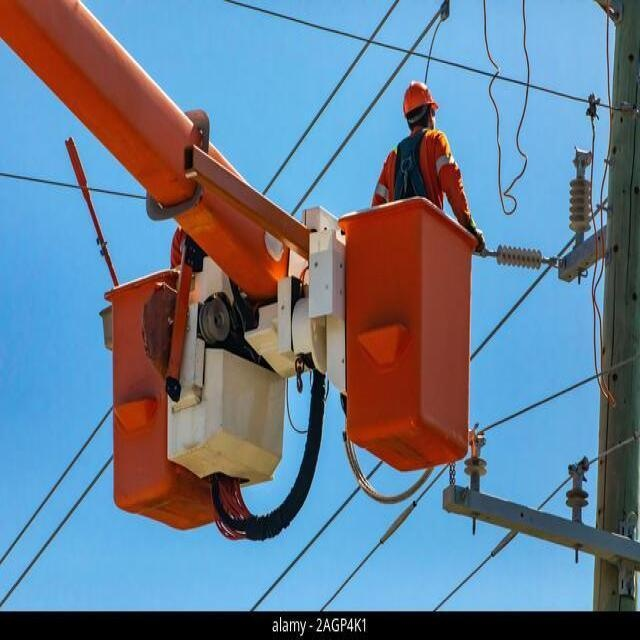Arnes_seguridad: (390, 127, 437, 203)
